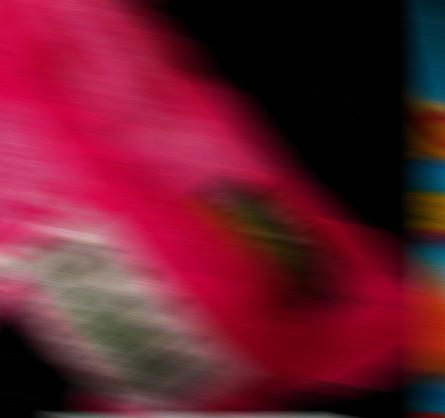egg: (55, 414, 383, 418)
mr chips: (427, 0, 445, 418)
palmolive soap: (0, 0, 445, 418)
